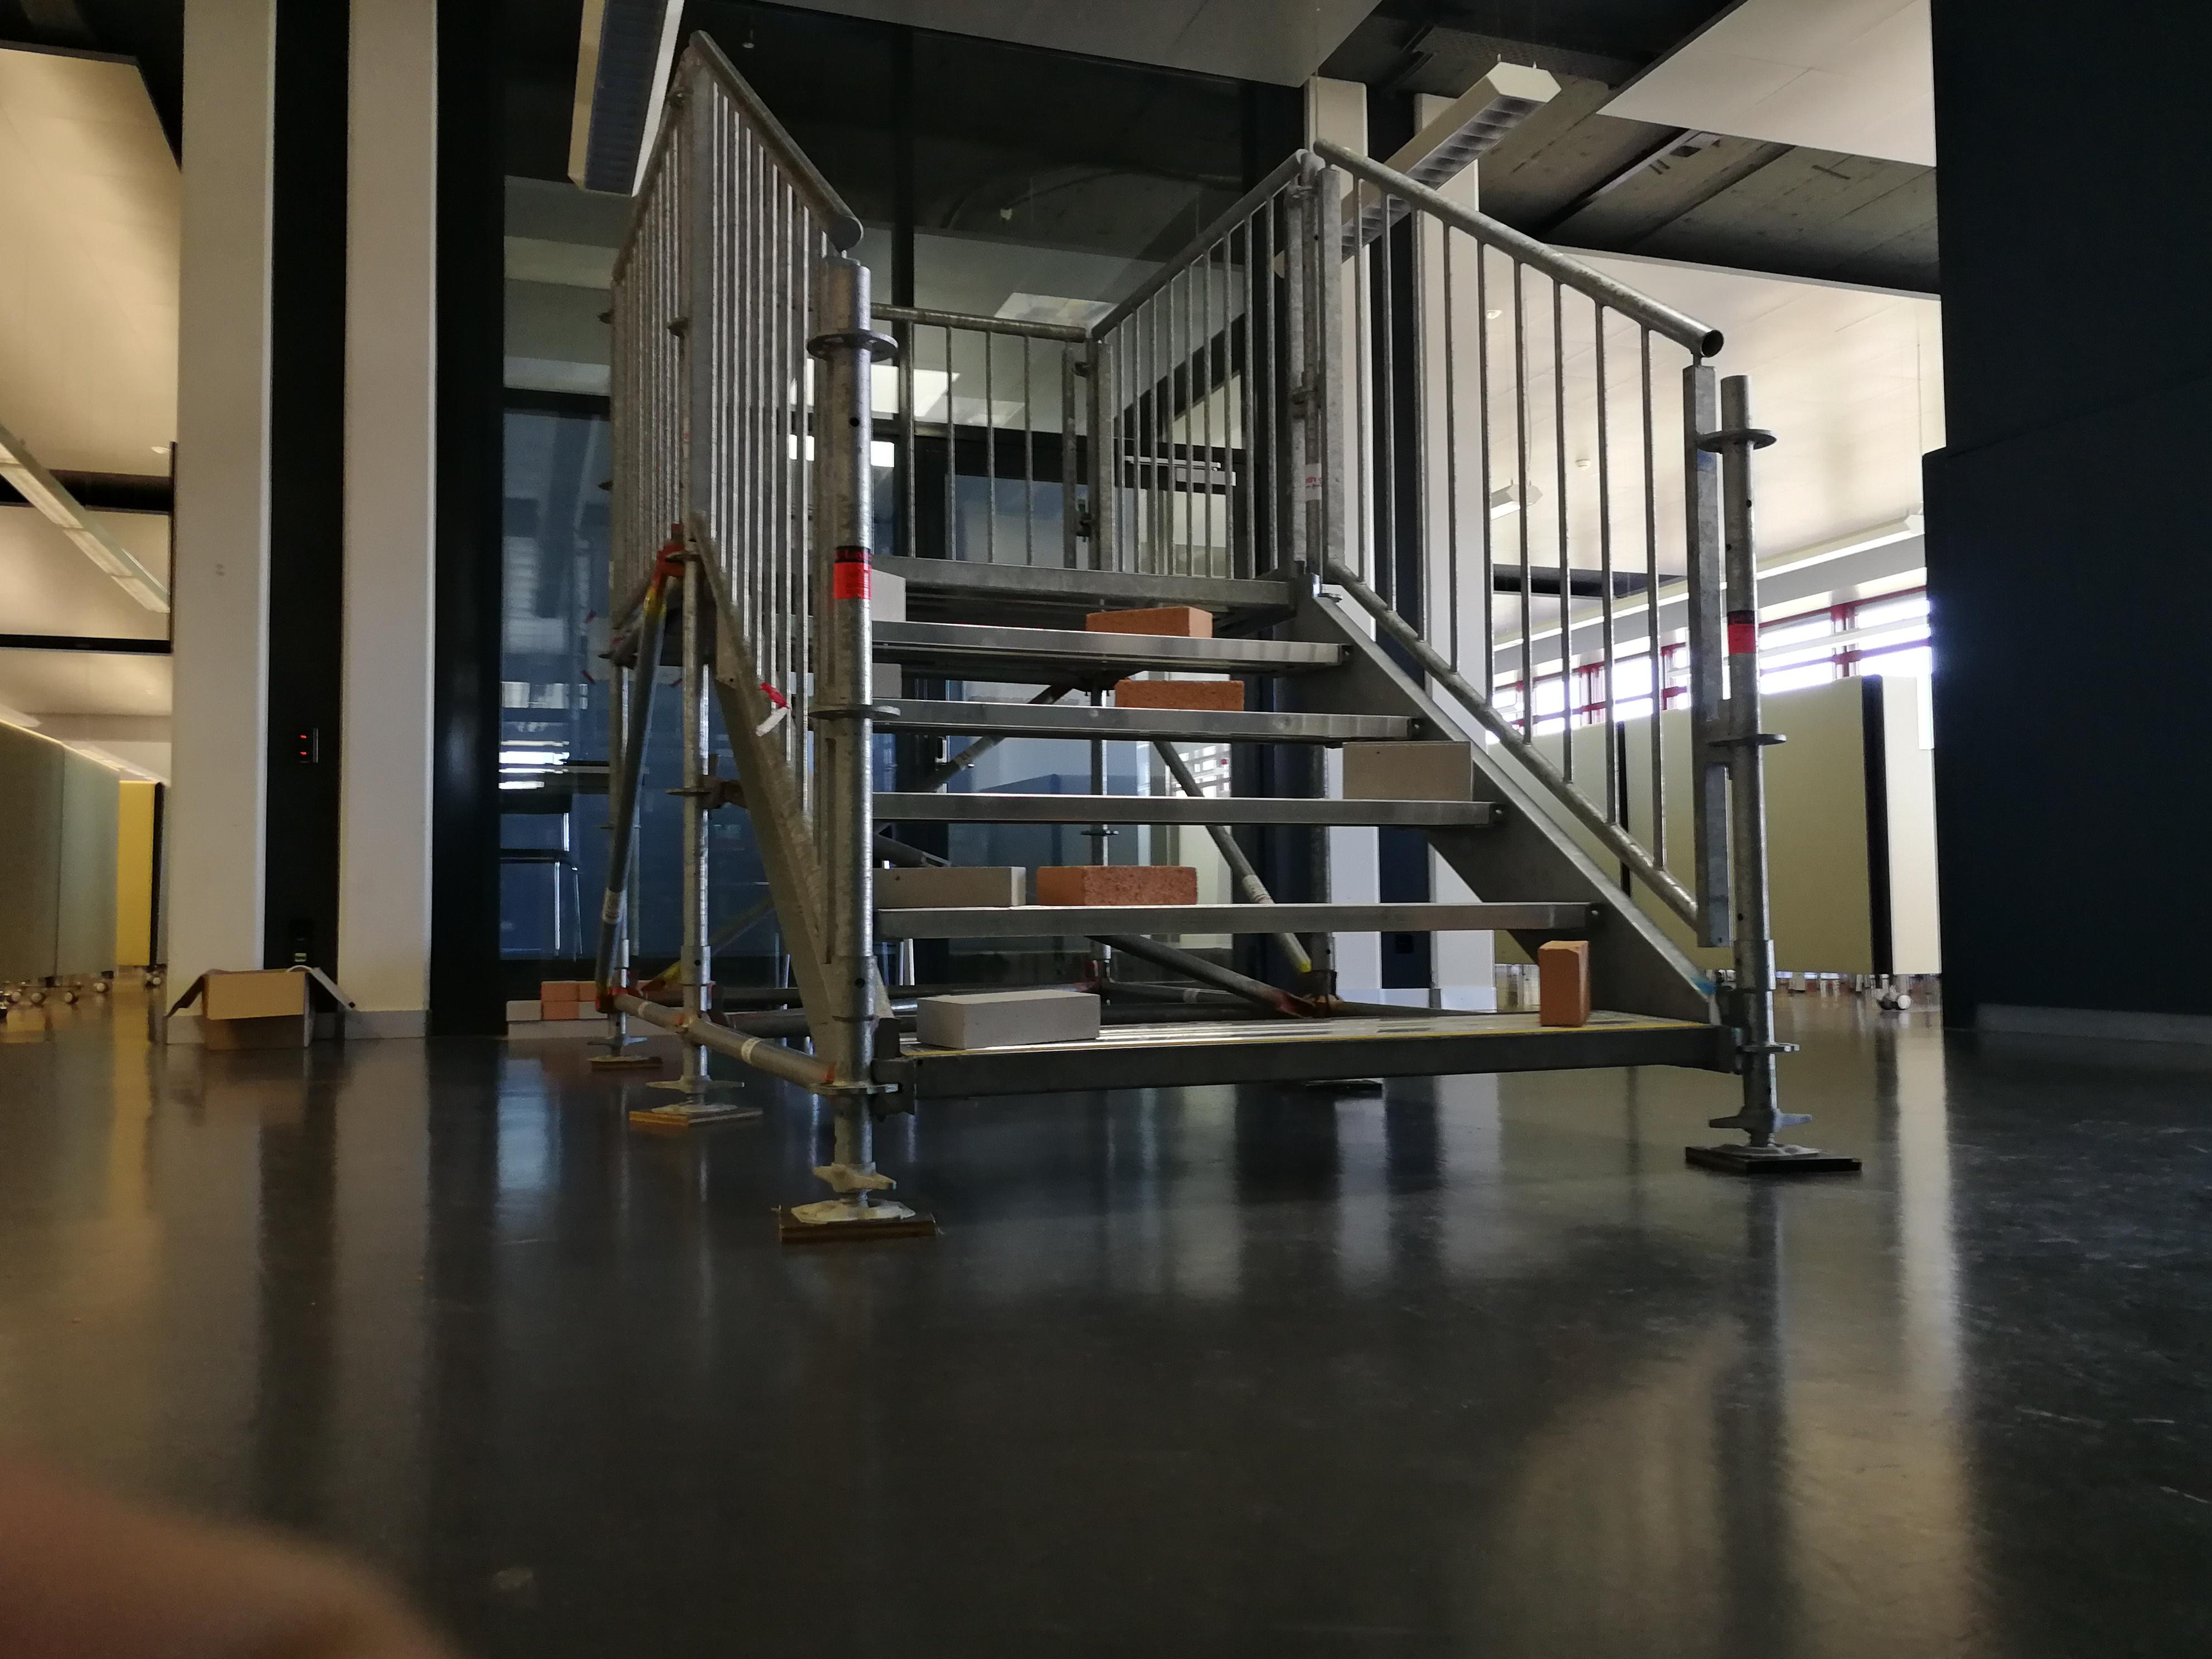brick: (913, 990, 1096, 1046), (1343, 742, 1472, 802), (1040, 864, 1195, 908), (874, 866, 1024, 908), (1087, 603, 1209, 643), (1538, 939, 1590, 1025), (1113, 681, 1244, 711), (869, 572, 904, 619), (873, 662, 899, 695)
edge: (913, 1023, 1709, 1098), (869, 899, 1599, 938), (864, 545, 1299, 605), (880, 622, 1348, 669), (885, 695, 1411, 734), (869, 793, 1507, 821)
stairs: (768, 216, 1862, 1239)
steps: (853, 526, 1737, 1131)
